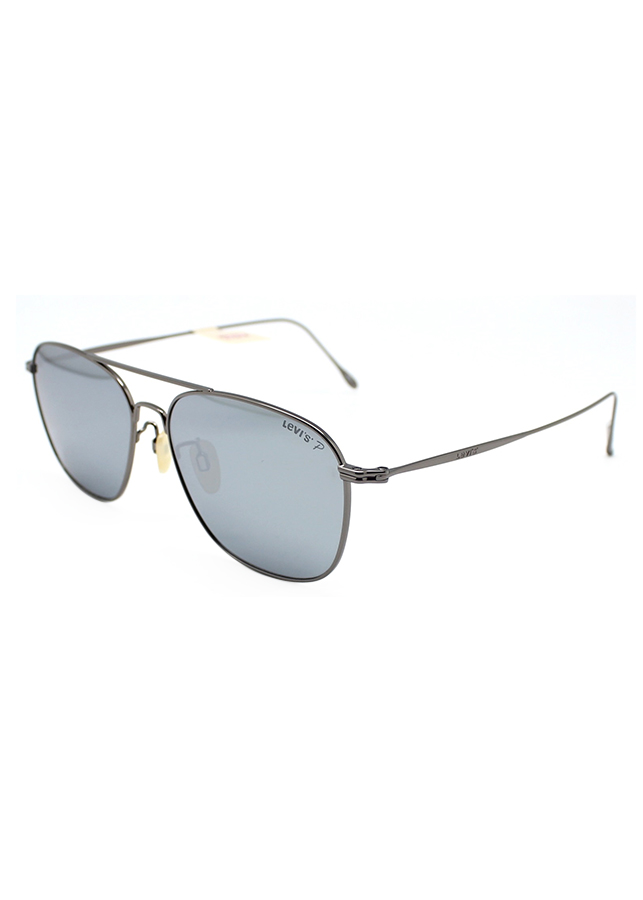Levi's: (279, 413, 317, 448)
